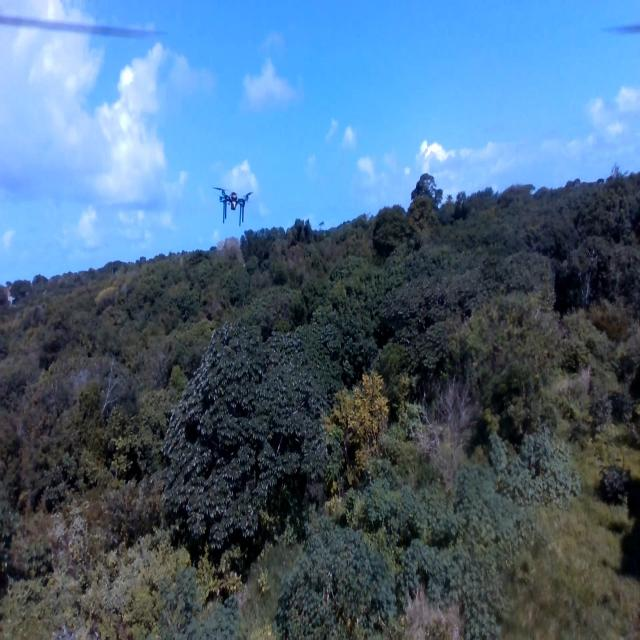-uav-: (212, 173, 256, 231)
